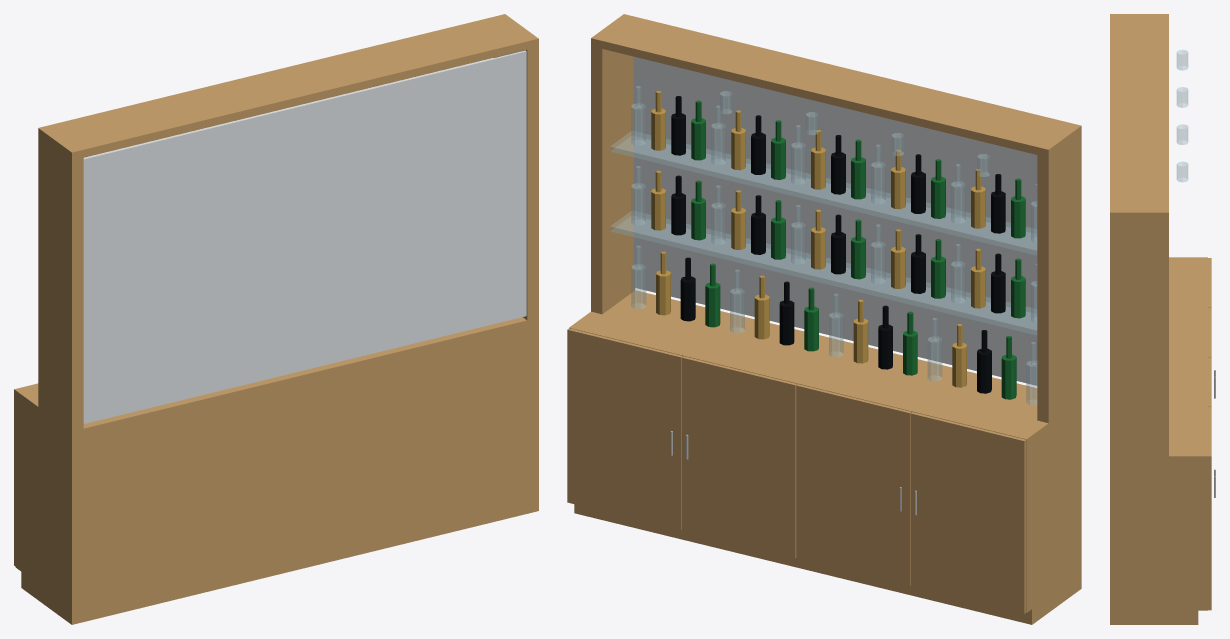
File: hospitality.pub.back_bar.glb
3 views of the same model, side by side, from view 1: azimuth 30°, elevation 25°; view 2: azimuth 150°, elevation 25°; view 3: azimuth 270°, elevation 25° (orthographic). The views are drawn at different scales.
Parts seen in each view (by area): view 1: carcass__glulam, carcass__mirror; view 2: carcass__glulam, carcass__mirror, stock__glass, stock__plastic_green, stock__glass_dark, stock__brass; view 3: carcass__glulam, stock__glass.
Boxes of the visible parts, x1,y1,x2,y2 form: carcass__glulam: (14,14,538,624); carcass__mirror: (83,50,526,423); carcass__glulam: (567,14,1081,624); carcass__mirror: (633,56,1037,385); stock__glass: (610,86,1037,405); stock__plastic_green: (691,100,1025,399); stock__glass_dark: (671,96,1005,393); stock__brass: (651,91,985,387); carcass__glulam: (1110,14,1211,624); stock__glass: (1177,50,1187,181).
Size of the model in its own units: 2.4 by 2.32 by 0.54.
